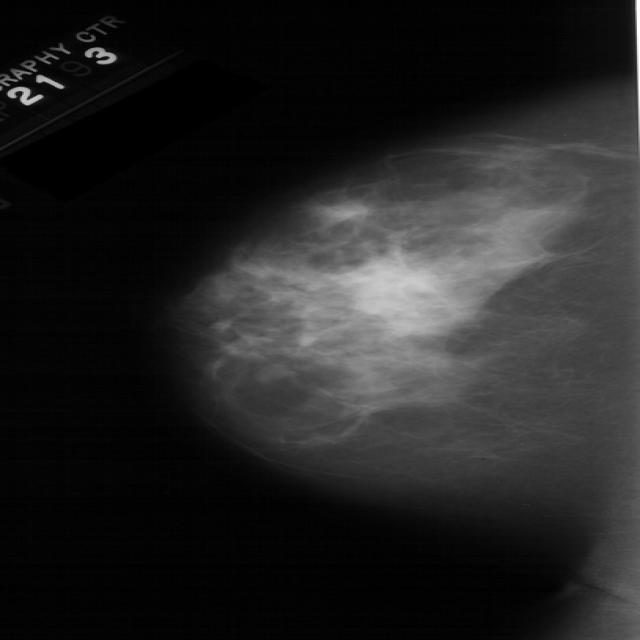tumour: (308, 199, 365, 221)
